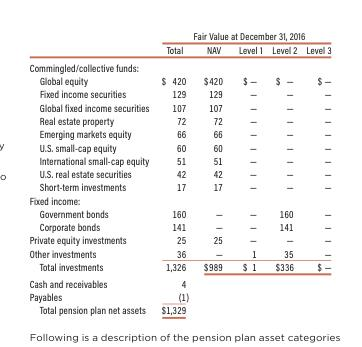table: (28, 28, 330, 316)
table column: (28, 28, 154, 316), (154, 28, 195, 316), (229, 28, 266, 316), (195, 28, 229, 316), (266, 28, 300, 316), (300, 28, 330, 316)
table column header: (28, 28, 330, 57)
table projected row header: (28, 57, 330, 73), (28, 193, 330, 206)
table row: (28, 57, 330, 73), (28, 42, 330, 57), (28, 259, 330, 274), (28, 274, 330, 289), (28, 28, 330, 42), (28, 73, 330, 87), (28, 126, 330, 140), (28, 179, 330, 193), (28, 232, 330, 246), (28, 302, 330, 316), (28, 87, 330, 100), (28, 100, 330, 113), (28, 113, 330, 126), (28, 140, 330, 153), (28, 153, 330, 166), (28, 166, 330, 179), (28, 193, 330, 206), (28, 206, 330, 219), (28, 219, 330, 232), (28, 246, 330, 259), (28, 289, 330, 302)
table spanning cell: (154, 28, 330, 42)
